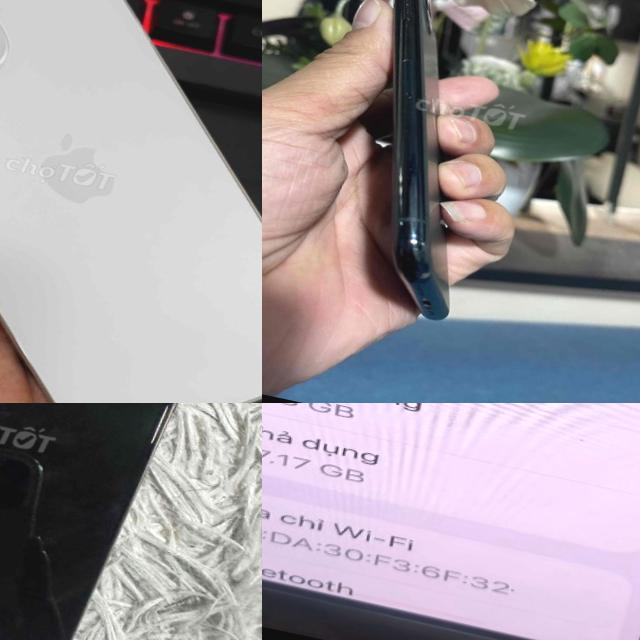gen_11: (391, 0, 448, 319)
gen_12_13: (262, 403, 640, 640)
gen_14: (0, 0, 262, 403)
gen_x_xs: (0, 403, 174, 640)
